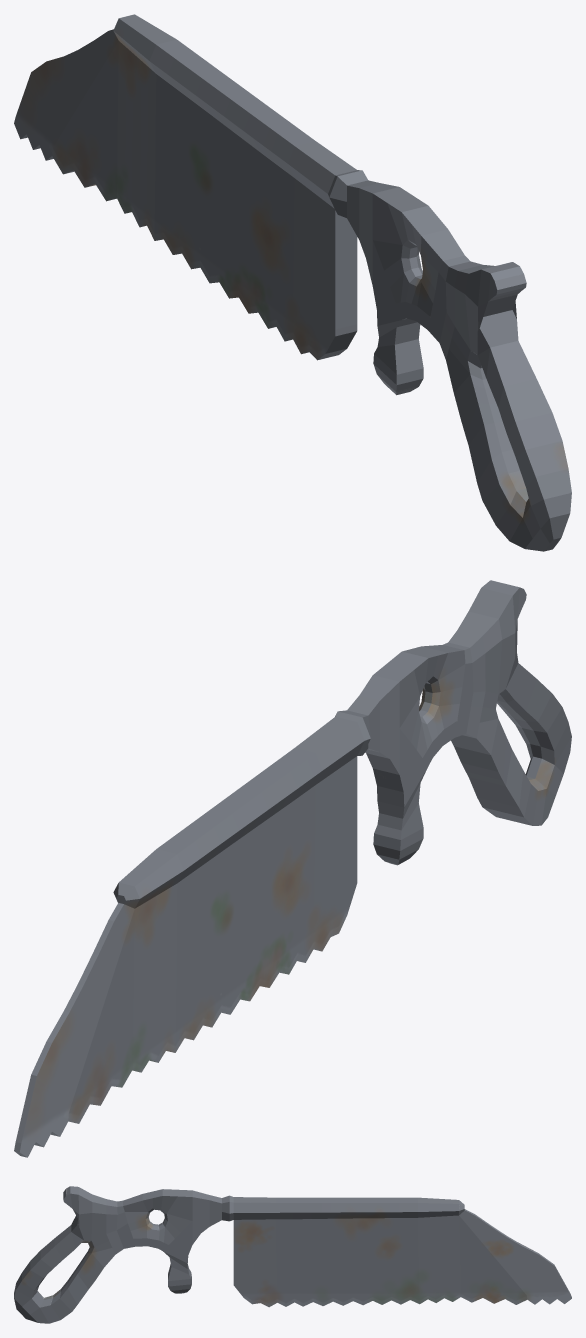
File: Bone Saw.fbx
The picture shows the model from 3 angles, top to bottom: view 1: azimuth 30°, elevation 25°; view 2: azimuth 150°, elevation 25°; view 3: azimuth 270°, elevation 25°; orthographic projection. The views are drawn at different scales.
Parts seen in each view (by area): view 1: Saw; view 2: Saw; view 3: Saw.
Part boxes in pixels (bbox=[...]): Saw: bbox=[14, 14, 571, 551]; Saw: bbox=[14, 580, 571, 1157]; Saw: bbox=[14, 1186, 571, 1323].
Bounding box in the file's own units: 3.26 × 18.84 × 73.15.
1 material, 1 textured.
